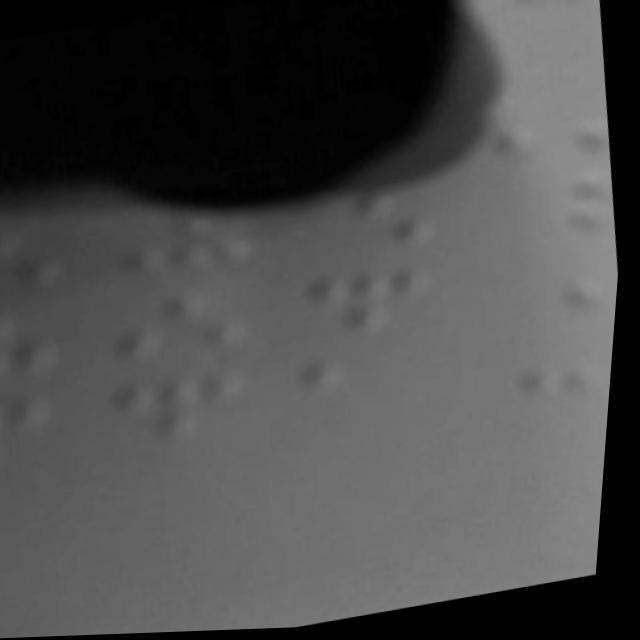braiile: (307, 259, 450, 346), (117, 287, 258, 374), (115, 367, 261, 451), (126, 203, 268, 285)
